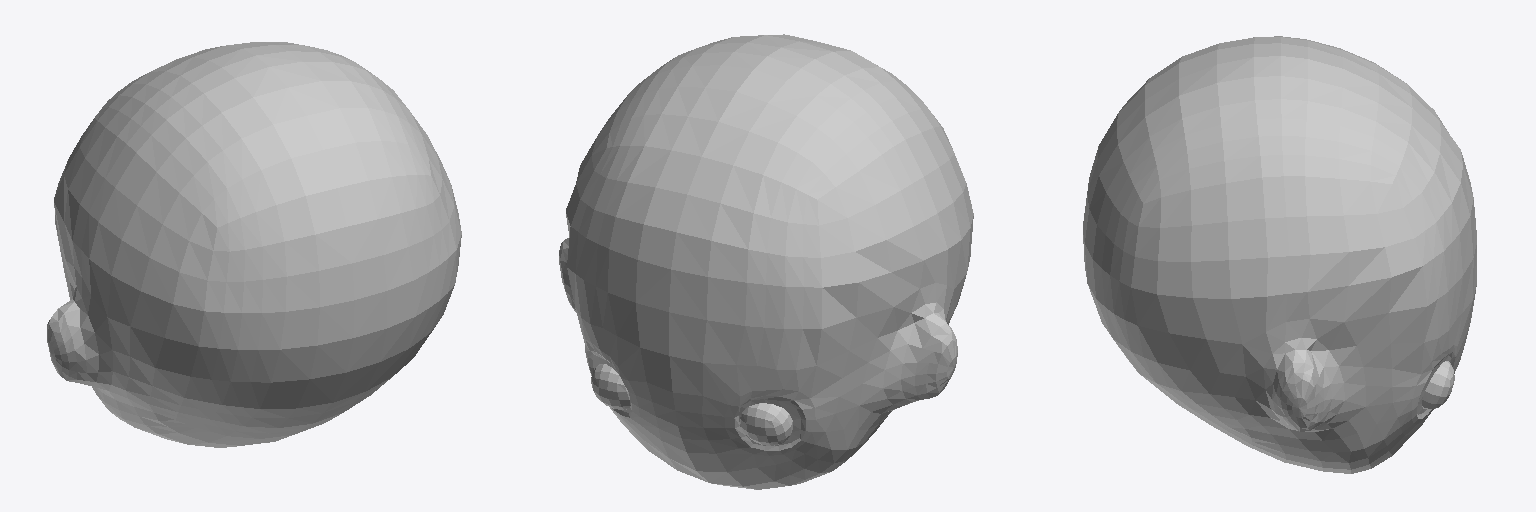
File: head.obj
3 views of the same model, side by side, from view 1: azimuth 30°, elevation 25°; view 2: azimuth 150°, elevation 25°; view 3: azimuth 270°, elevation 25° (orthographic).
Visible parts, largest first — view 1: Cube.008; view 2: Cube.008, Cube.004, Cube.002; view 3: Cube.008, Cube.002.
Boxes of the visible parts, box(x1,y1,x2,y2) form: Cube.008: box(47, 42, 461, 447); Cube.008: box(559, 34, 973, 489); Cube.004: box(740, 403, 792, 445); Cube.002: box(591, 364, 630, 409); Cube.008: box(1083, 36, 1476, 473); Cube.002: box(1422, 361, 1454, 409).
Size of the model in its own units: 3.56 by 3.45 by 3.08.